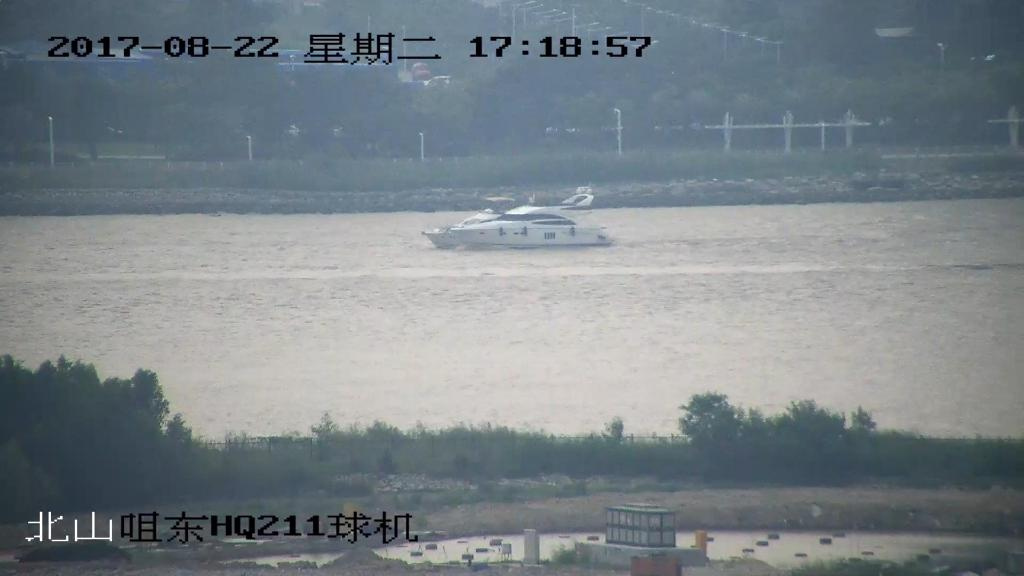PassengerShip: (414, 184, 622, 256)
